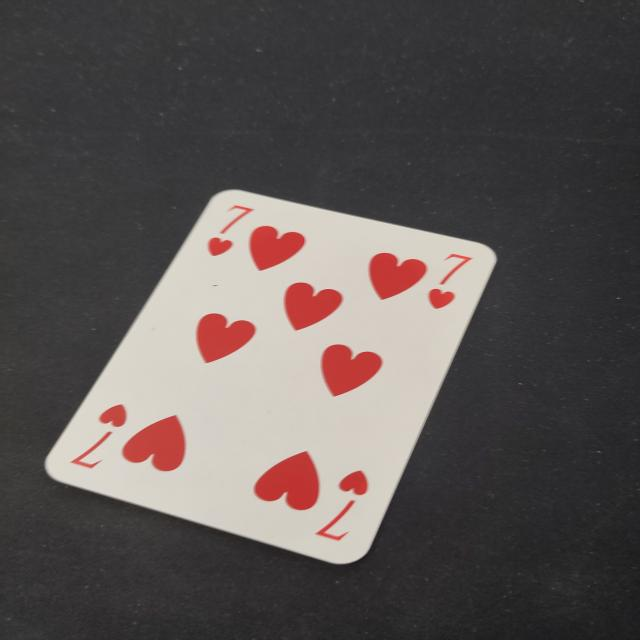7h: (51, 392, 135, 478), (309, 462, 372, 550), (199, 200, 261, 264), (419, 250, 474, 315)
